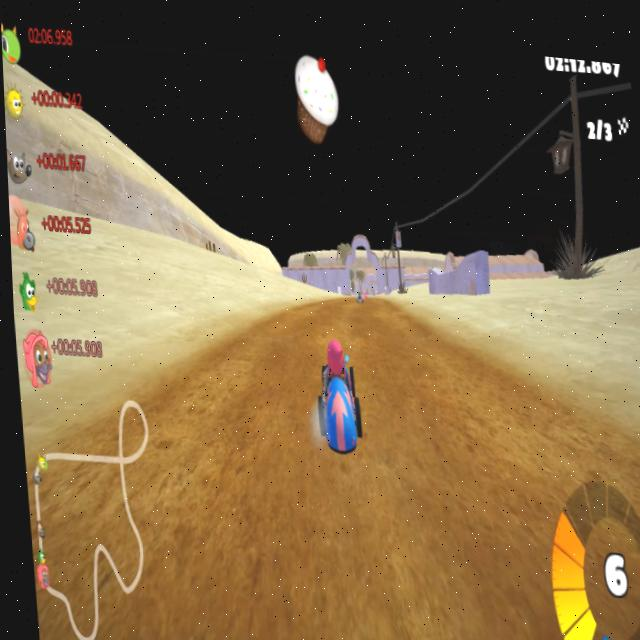off_track: (91, 177, 316, 302), (410, 231, 640, 353)
player_kart: (309, 329, 361, 449)
track: (304, 291, 405, 330)
